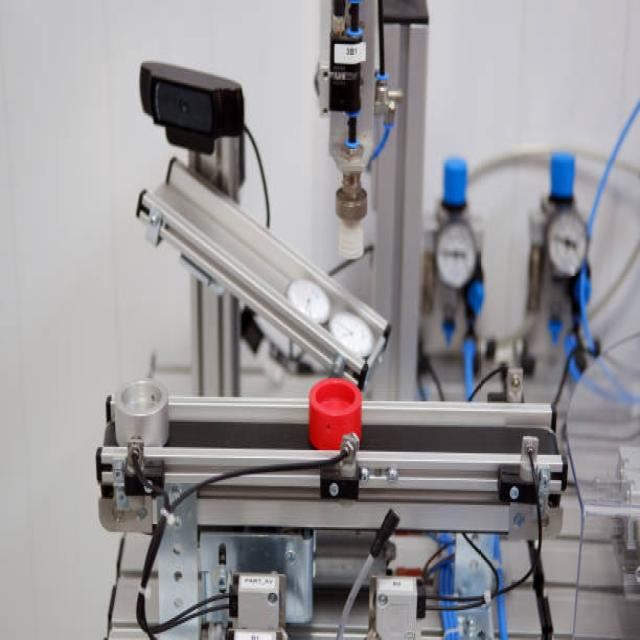Robotic-arm: (303, 0, 402, 278)
